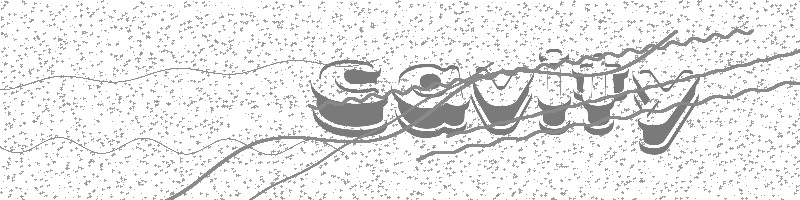a: (393, 61, 468, 138)
c: (308, 56, 391, 138)
o: (536, 44, 572, 135)
t: (571, 53, 626, 137)
v: (470, 62, 535, 139)
y: (630, 65, 700, 156)
